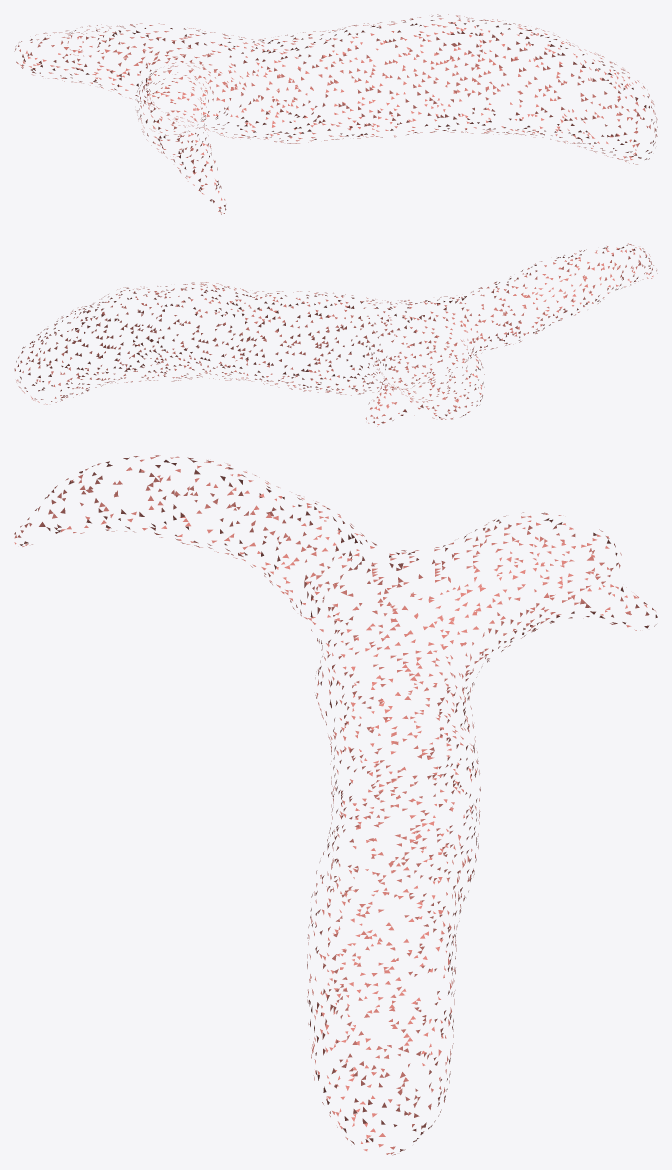
The model's file is morph_001.glb.
3 views of the same model, one above another, from view 1: azimuth 30°, elevation 25°; view 2: azimuth 150°, elevation 25°; view 3: azimuth 270°, elevation 25° (orthographic). The views are drawn at different scales.
Size of the model in its own units: 110 by 44.09 by 76.32.
